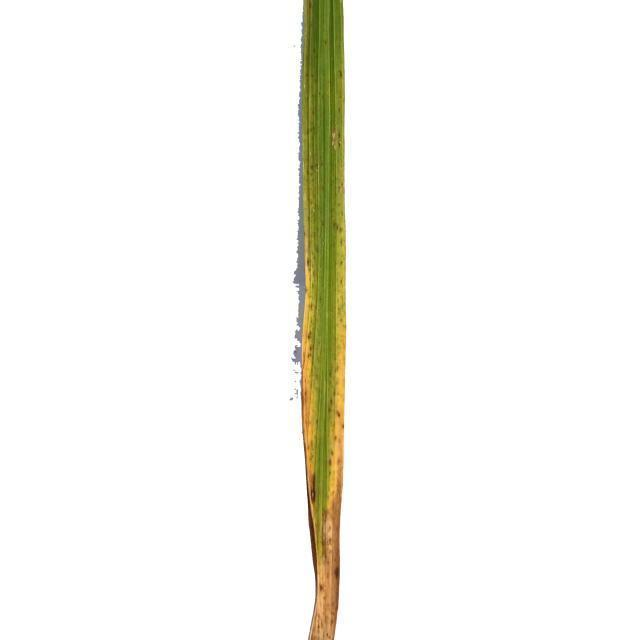Rice Tungro: (306, 74, 345, 490), (312, 500, 338, 538)
